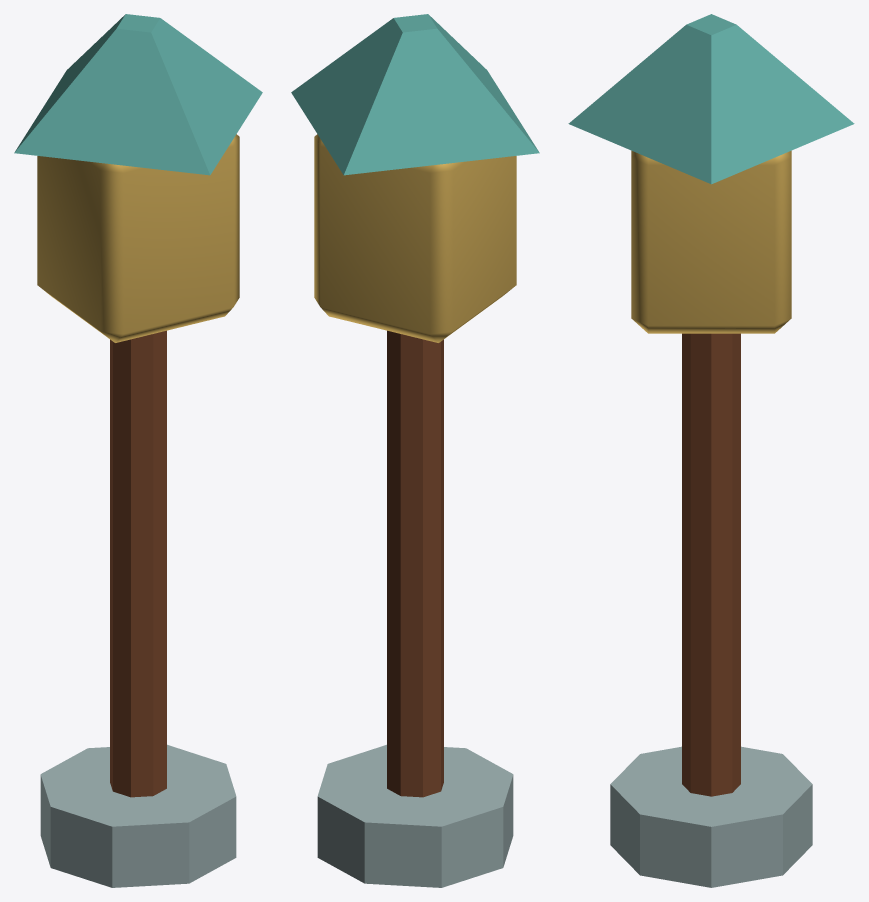
The model's file is lantern.glb.
3 renders of one model, left to right at view 1: azimuth 30°, elevation 25°; view 2: azimuth 150°, elevation 25°; view 3: azimuth 270°, elevation 25°, orthographic.
Visible parts, largest first — view 1: LanternMesh; view 2: LanternMesh; view 3: LanternMesh.
Boxes of the visible parts, x1,y1,x2,y2 form: LanternMesh: (14, 14, 262, 887); LanternMesh: (291, 14, 539, 887); LanternMesh: (568, 14, 854, 887).
Bounding box in the file's own units: 0.34 × 1.07 × 0.34.
